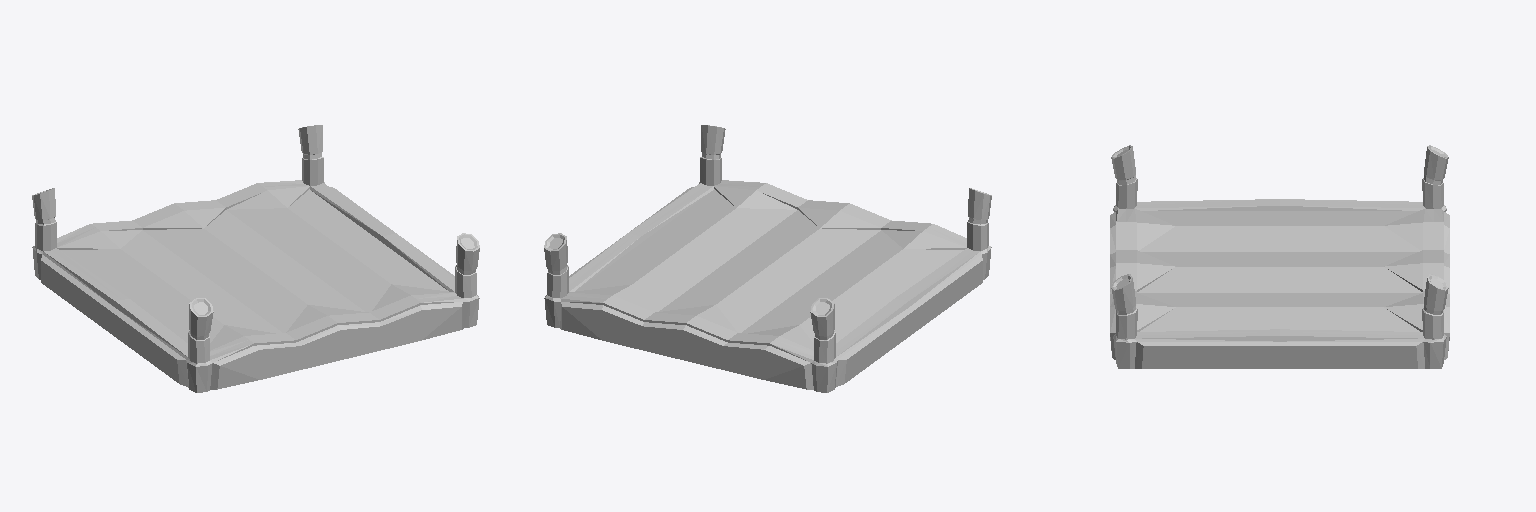
The model's file is farmnew.obj.
3 views of the same model, side by side, from view 1: azimuth 30°, elevation 25°; view 2: azimuth 150°, elevation 25°; view 3: azimuth 270°, elevation 25° (orthographic).
Bounding box in the file's own units: 4.15 × 1.19 × 4.15.